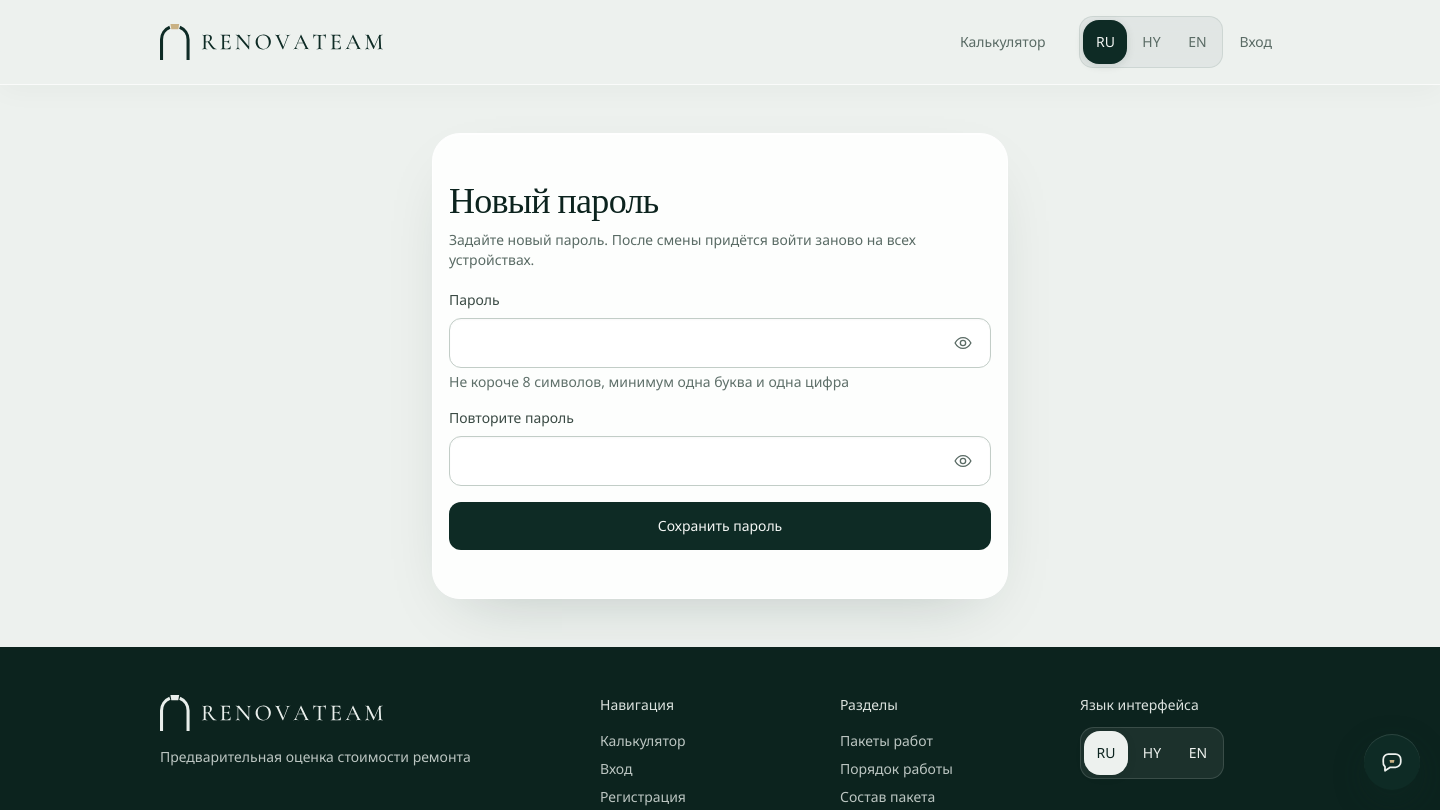
Test: страница установки нового пароля › слабый пароль отклоняется теми же правилами, что при регистрации
Type "onlyletters" into the password field labelled "Пароль" at {"x": 720, "y": 343}, box [449,318,991,368]
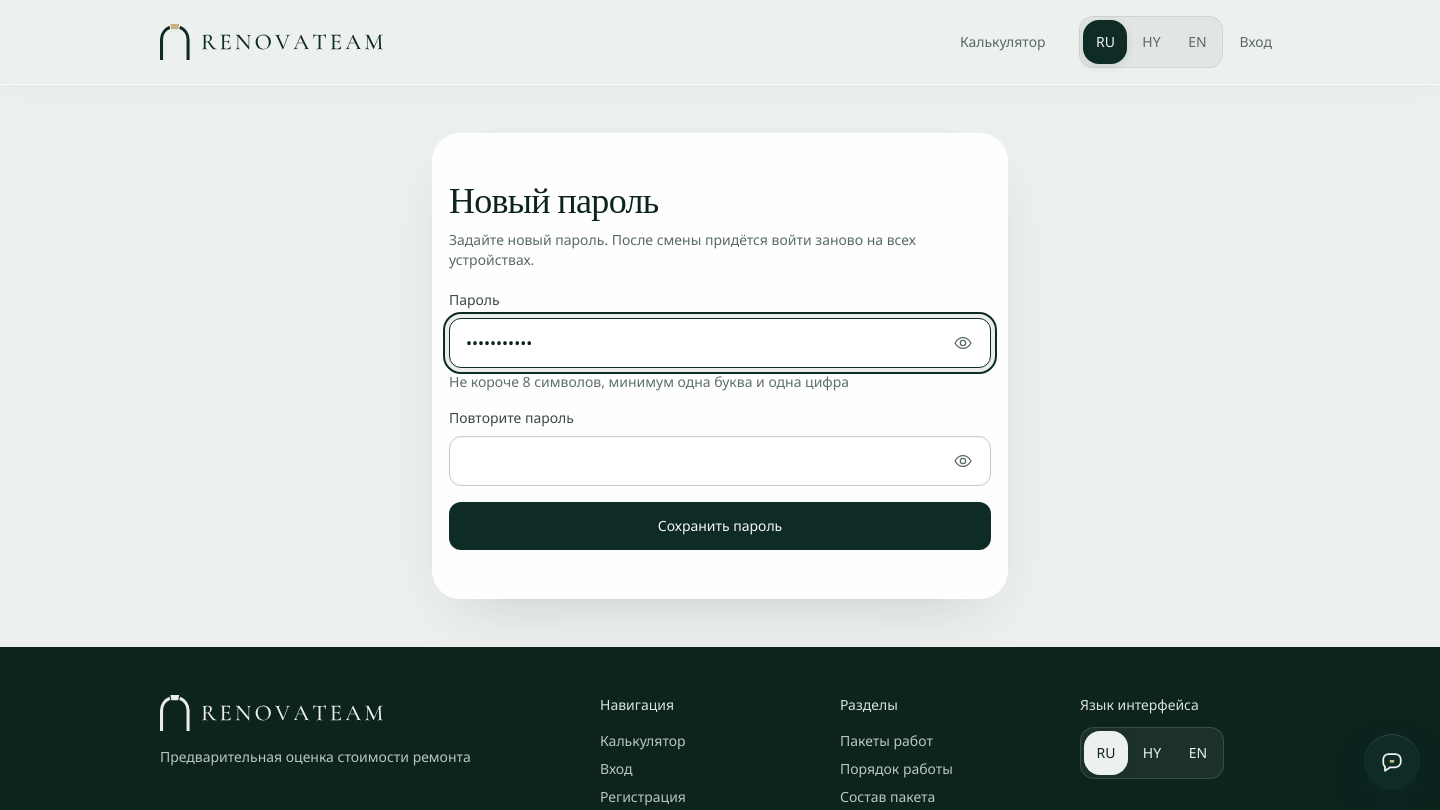
Type "onlyletters" into the password field labelled "Повторите пароль" at {"x": 720, "y": 461}, box [449,436,991,486]
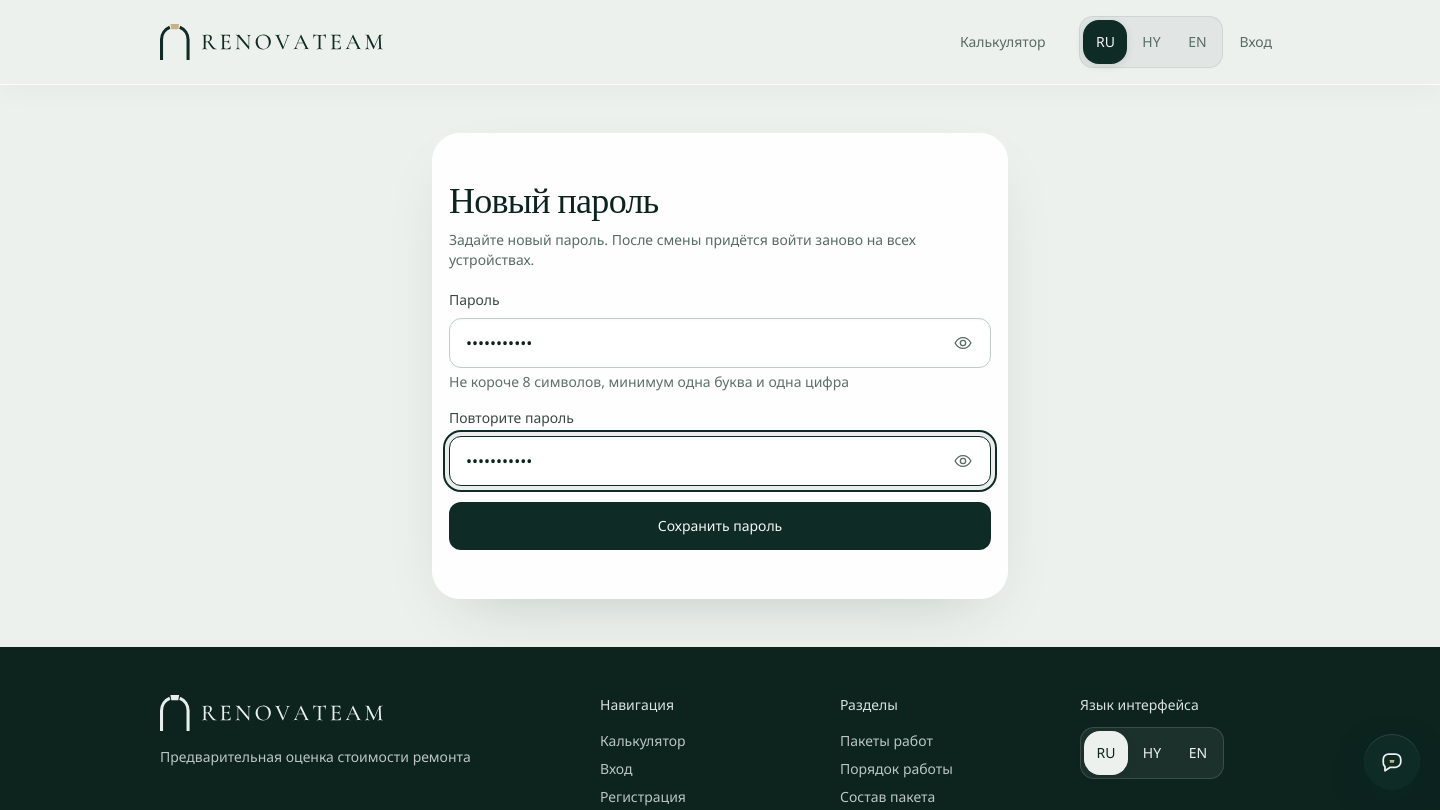
Click the button "Сохранить пароль" at {"x": 720, "y": 526}, box [449,502,991,550]
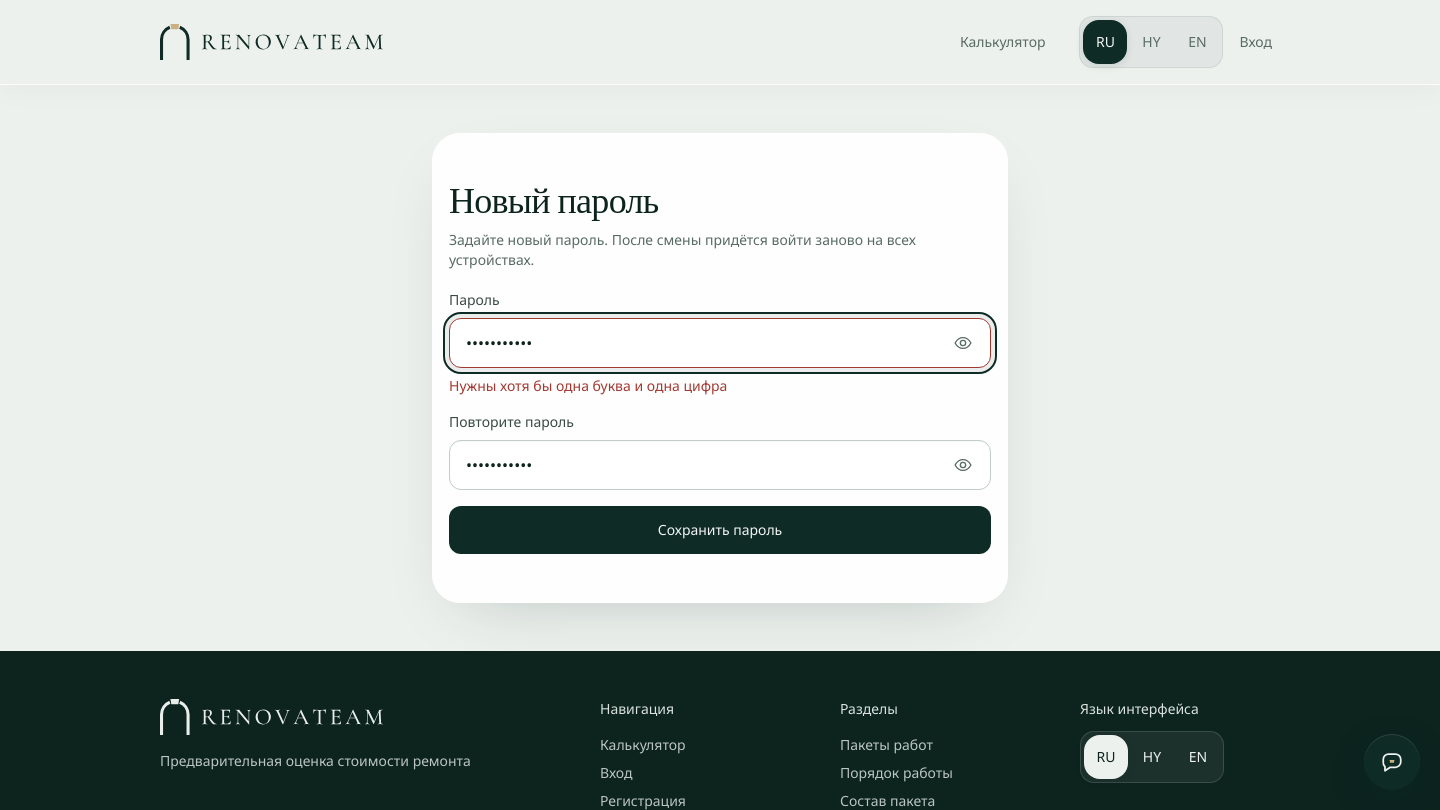
Expected: the text "Нужны хотя бы одна буква и одна цифра" is shown, [449,376,727,395]
